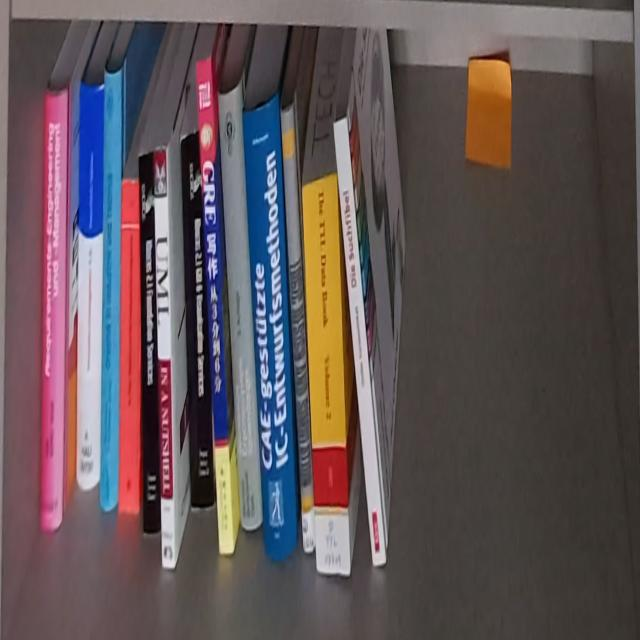Book Spine: (243, 92, 296, 570), (332, 116, 386, 567), (217, 75, 264, 537), (301, 167, 351, 580), (195, 51, 233, 559), (278, 102, 316, 558), (37, 82, 70, 538), (180, 134, 214, 512), (96, 64, 124, 515), (75, 82, 104, 498), (154, 146, 176, 573), (139, 152, 160, 538), (118, 183, 140, 516)
